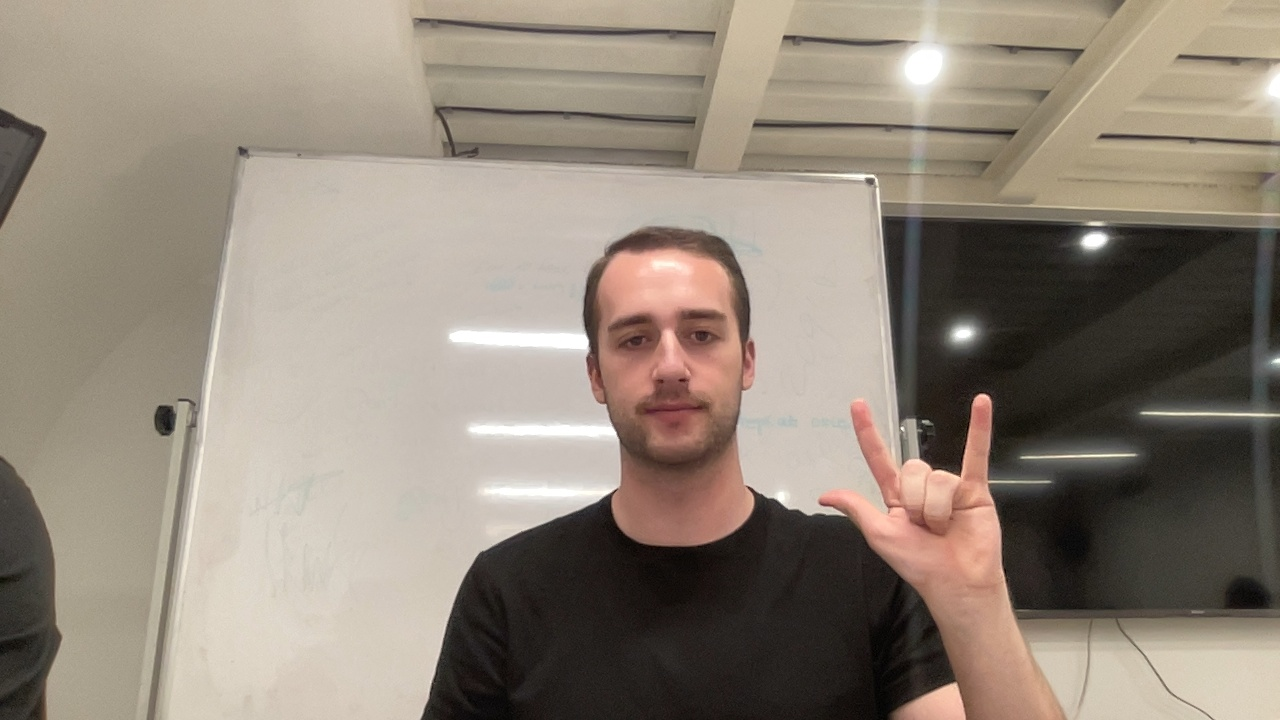I Love You: (813, 395, 1025, 617)
